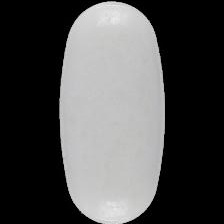68788-6360: (0, 0, 224, 224)
